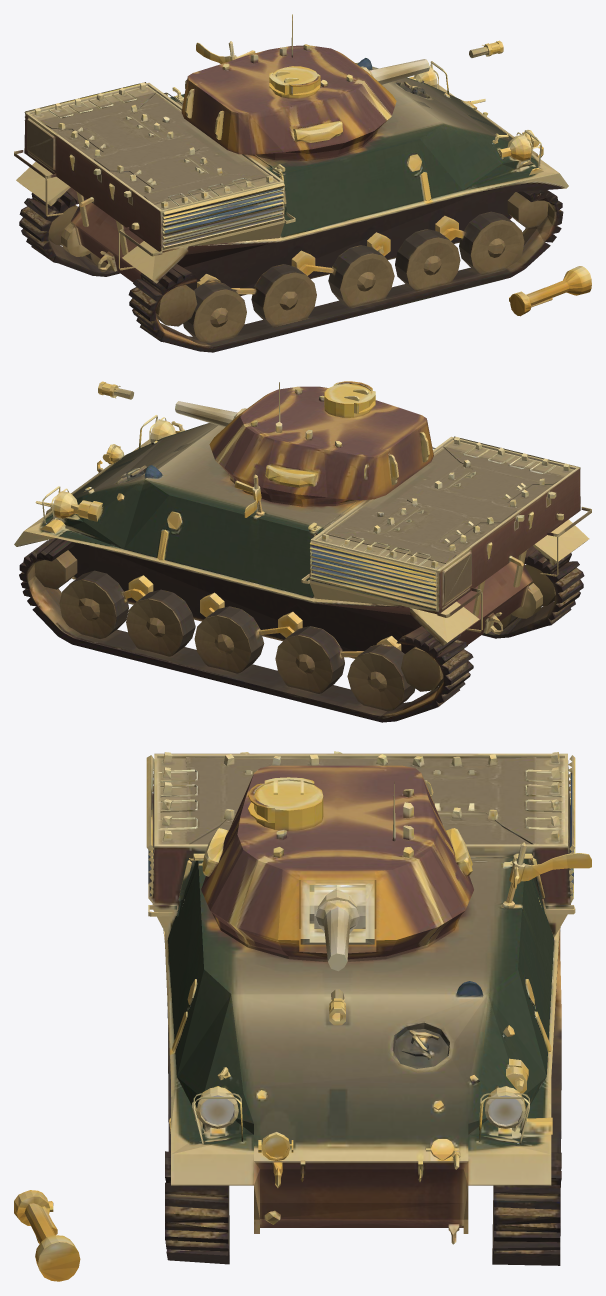
The model's file is destroyed_apc.glb.
3 views of the same model, one above another, from view 1: azimuth 30°, elevation 25°; view 2: azimuth 150°, elevation 25°; view 3: azimuth 270°, elevation 25° (orthographic). The views are drawn at different scales.
Parts seen in each view (by area): view 1: tripo_node_9348173d-85af-4c86-a71f-555251fe0882; view 2: tripo_node_9348173d-85af-4c86-a71f-555251fe0882; view 3: tripo_node_9348173d-85af-4c86-a71f-555251fe0882.
Part boxes in pixels (x1=…): tripo_node_9348173d-85af-4c86-a71f-555251fe0882: x1=14, y1=14, x2=591, y2=352; tripo_node_9348173d-85af-4c86-a71f-555251fe0882: x1=14, y1=381, x2=591, y2=722; tripo_node_9348173d-85af-4c86-a71f-555251fe0882: x1=14, y1=751, x2=591, y2=1281.
Size of the model in its own units: 0.998 by 0.5449 by 0.748.
Materials: 1 (1 with a texture image).
